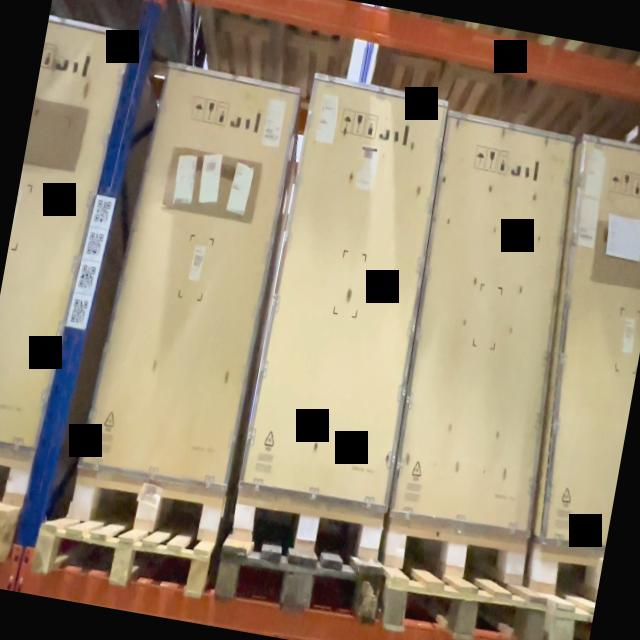box: (242, 76, 448, 512), (98, 65, 296, 492), (391, 117, 574, 534)
